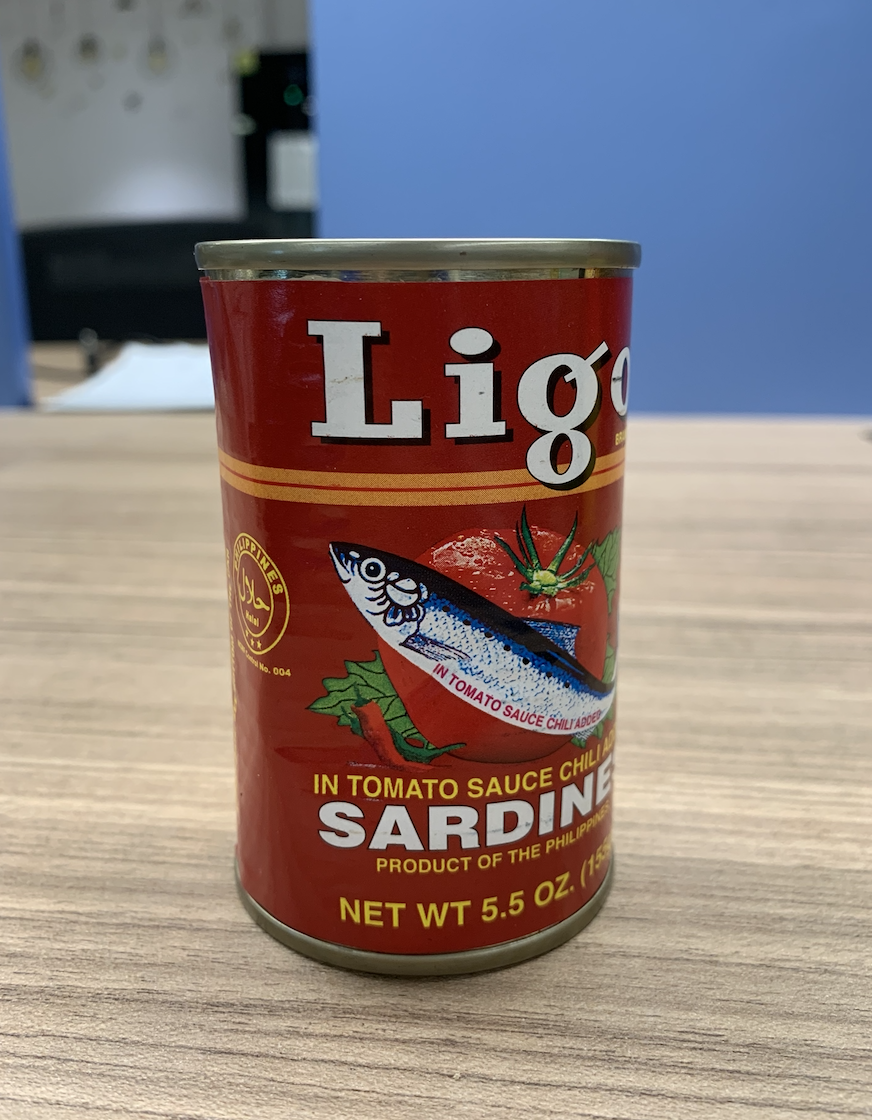sardines_100g-199g: (231, 289, 615, 928)
